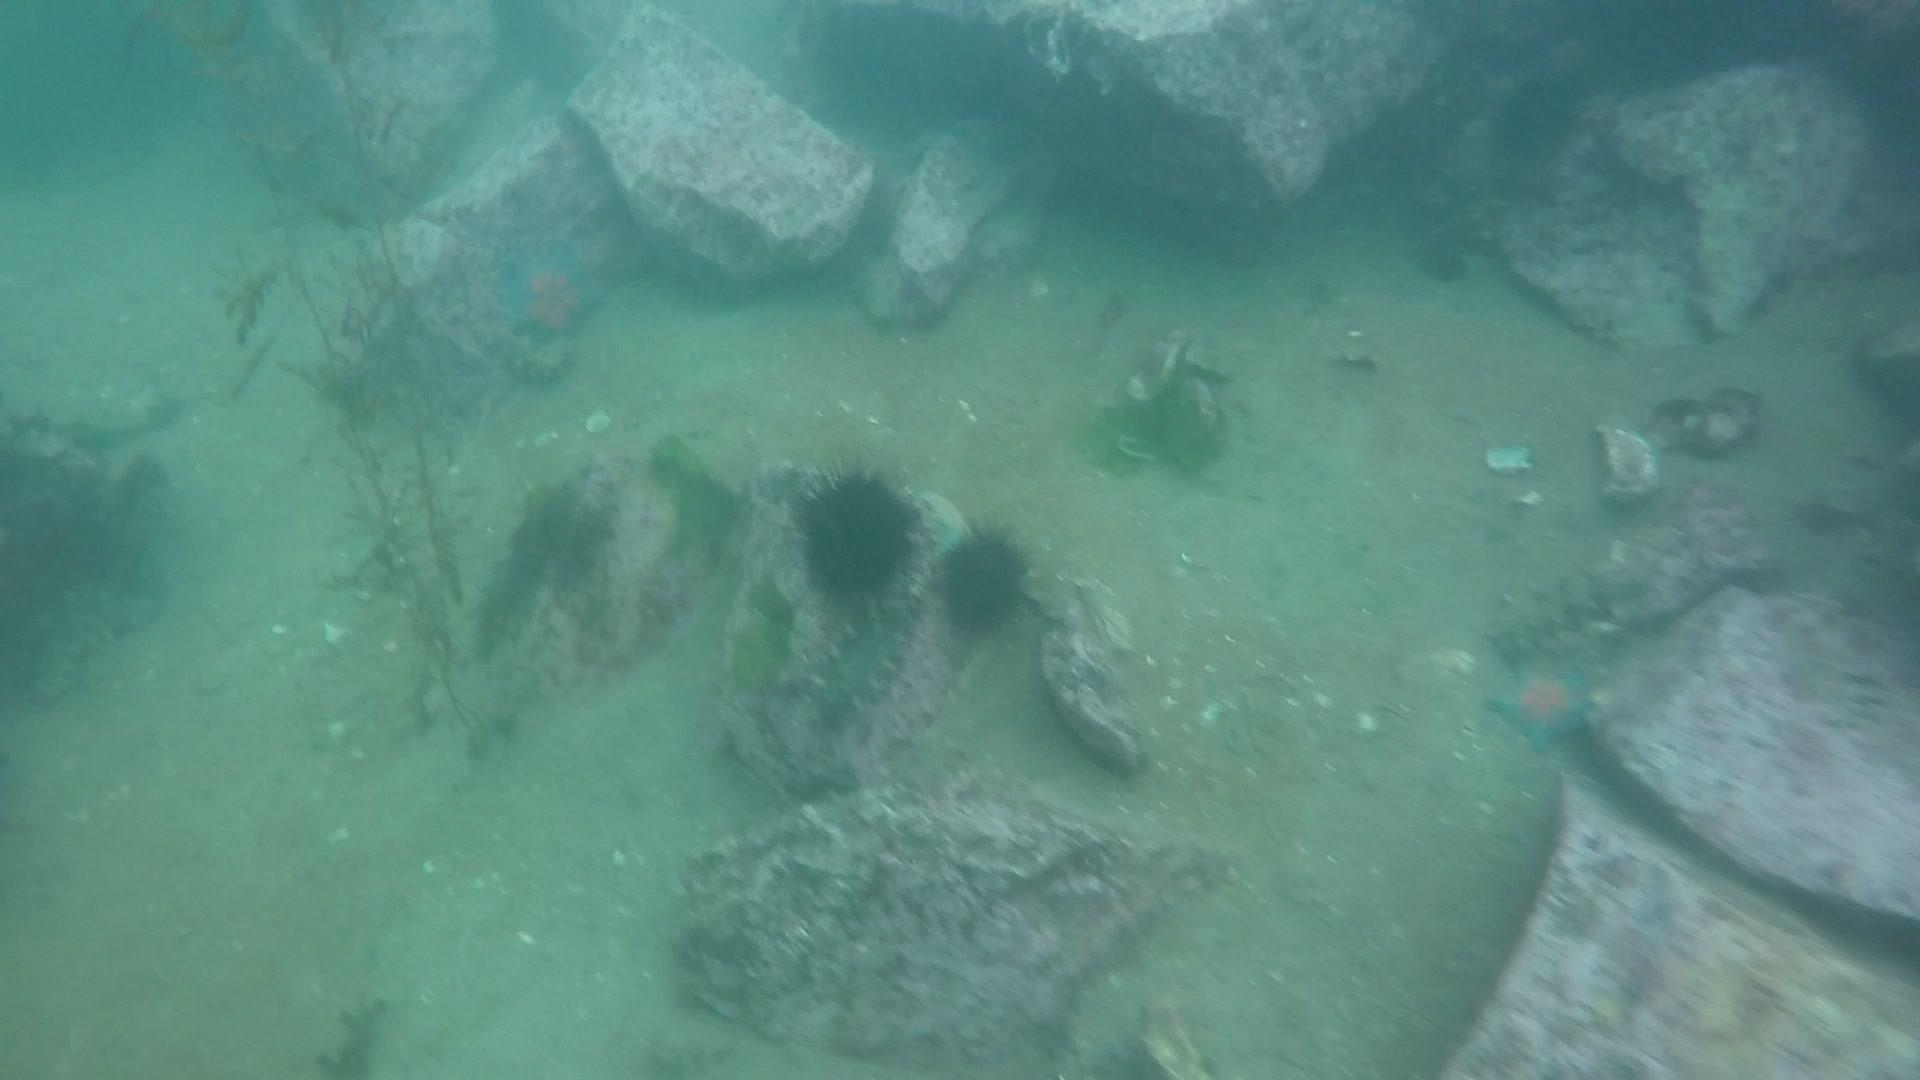echinus: (789, 447, 928, 608), (934, 520, 1038, 644)
holothurian: (22, 593, 179, 715), (789, 589, 927, 727), (465, 314, 568, 390)
starfish: (1484, 654, 1601, 760), (500, 237, 617, 328)
